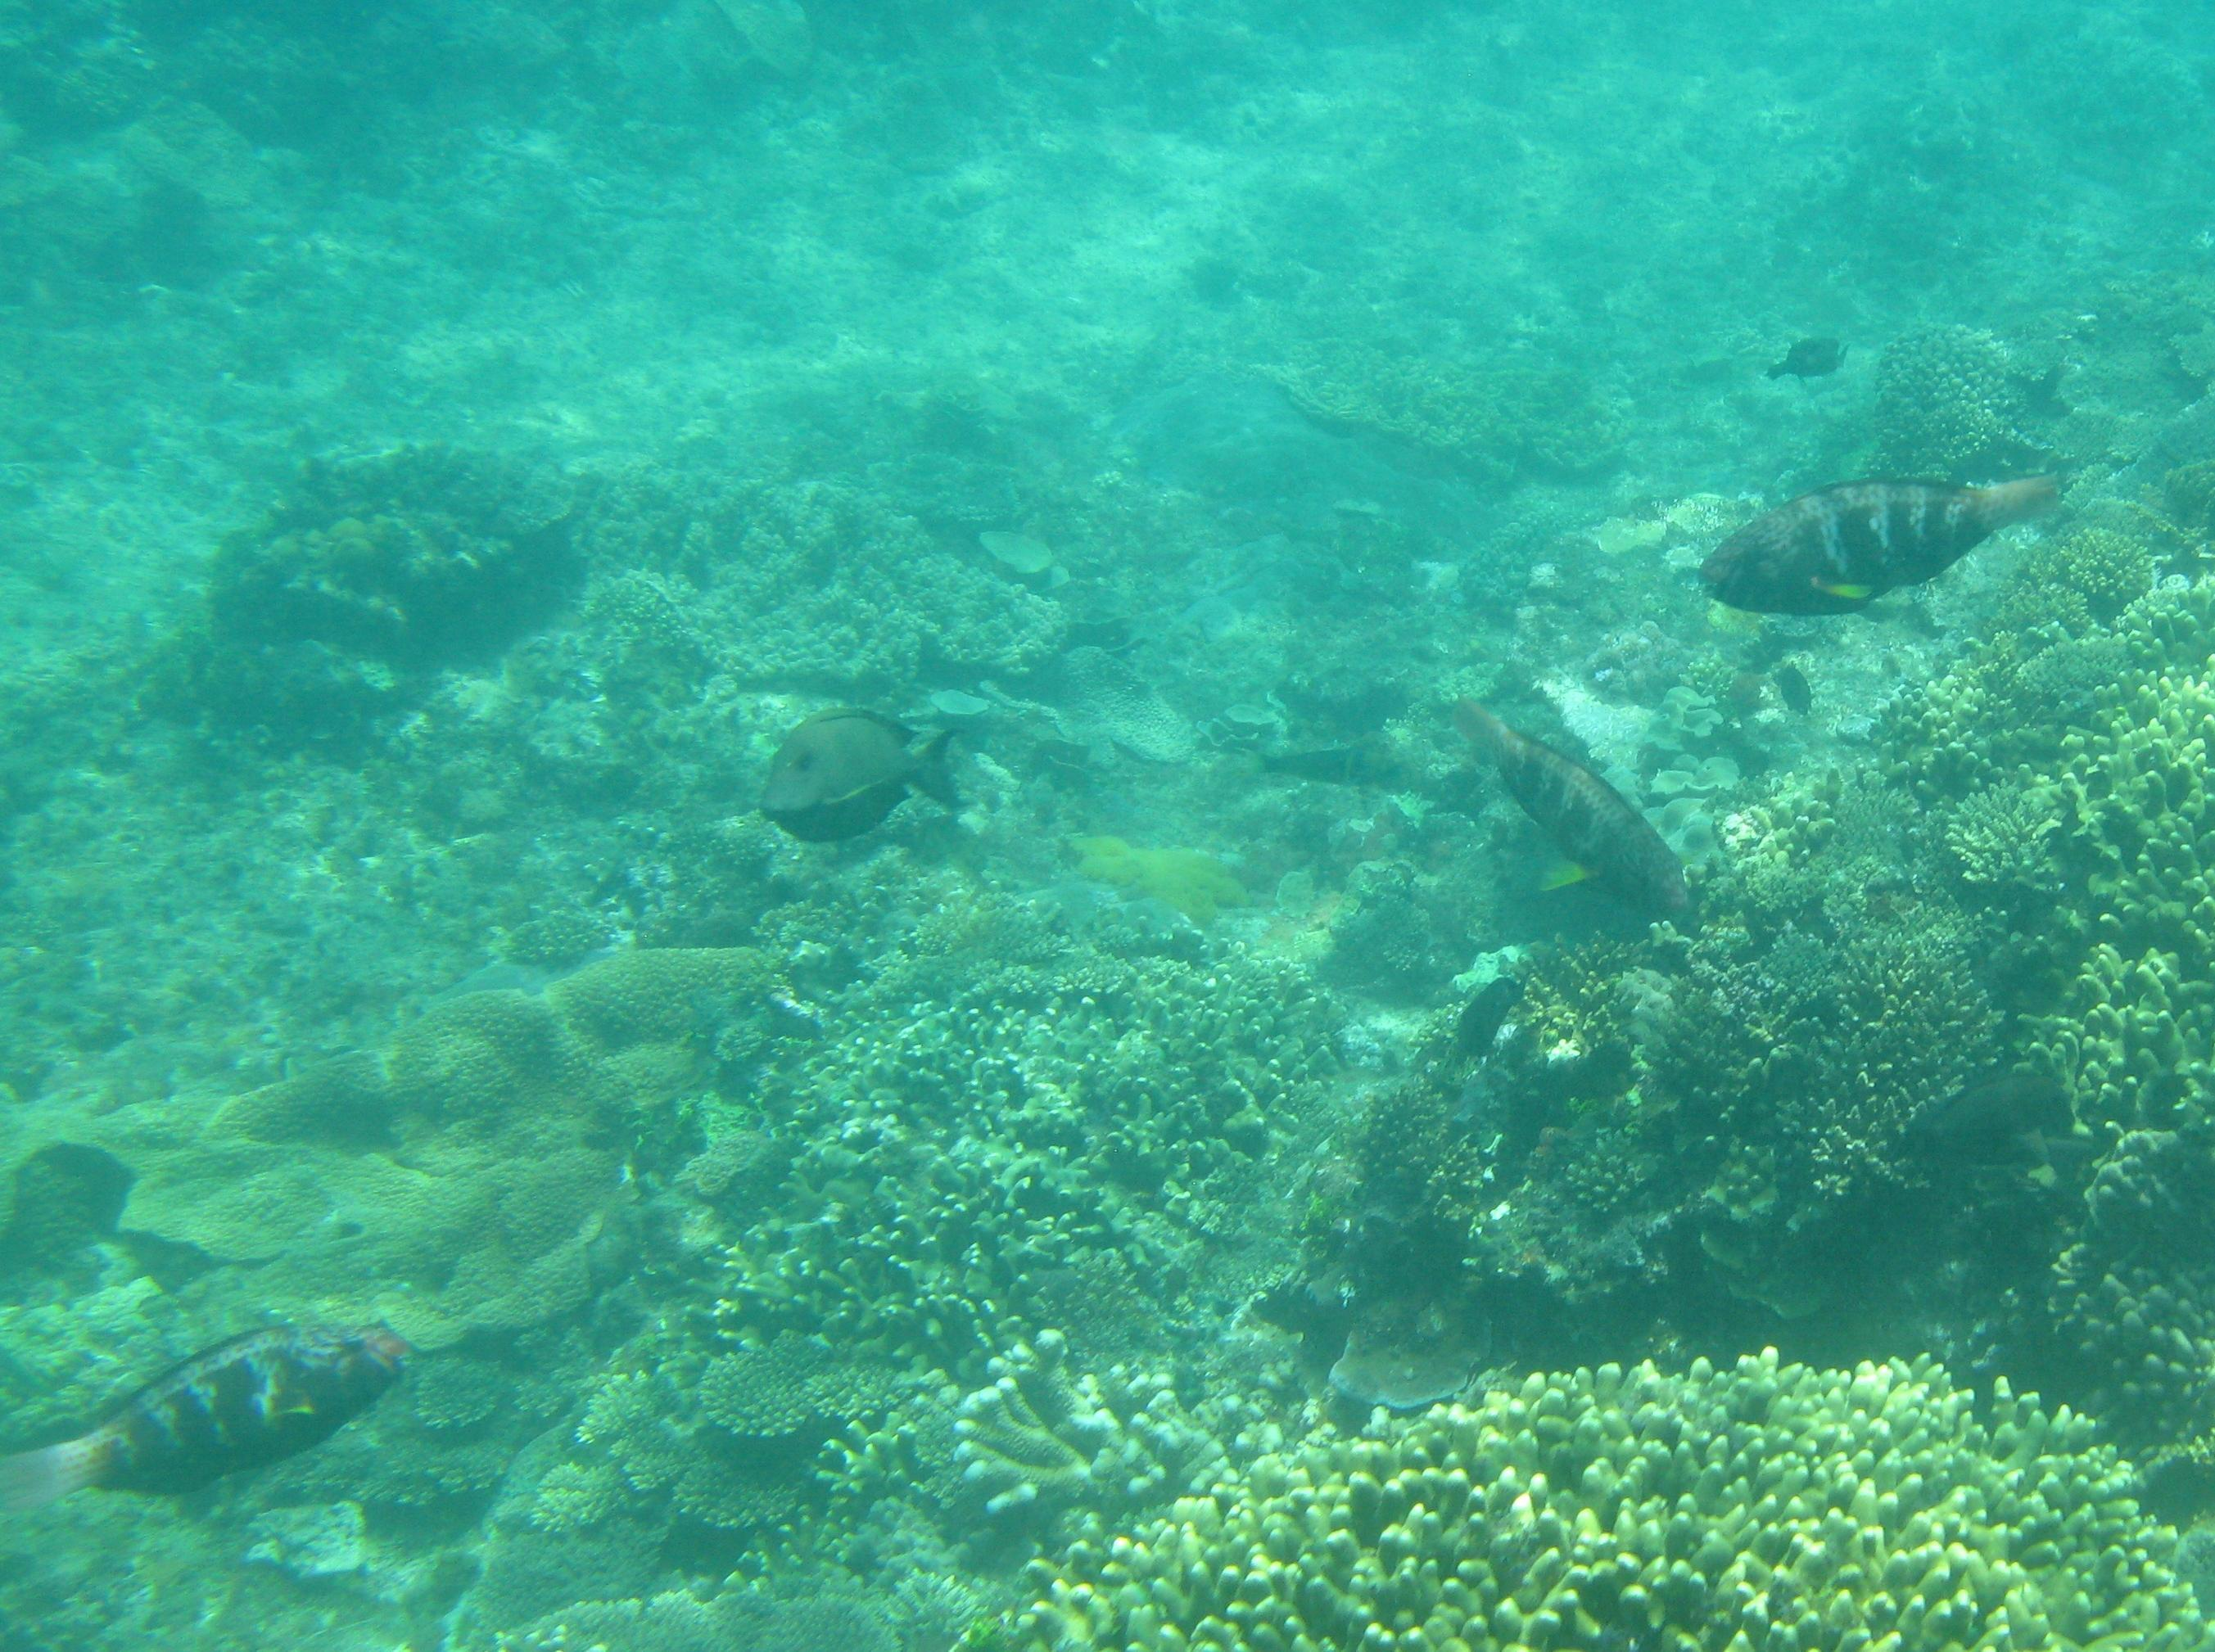Fish: (1373, 644, 1727, 1006), (66, 1298, 458, 1525), (1651, 448, 2078, 647)
